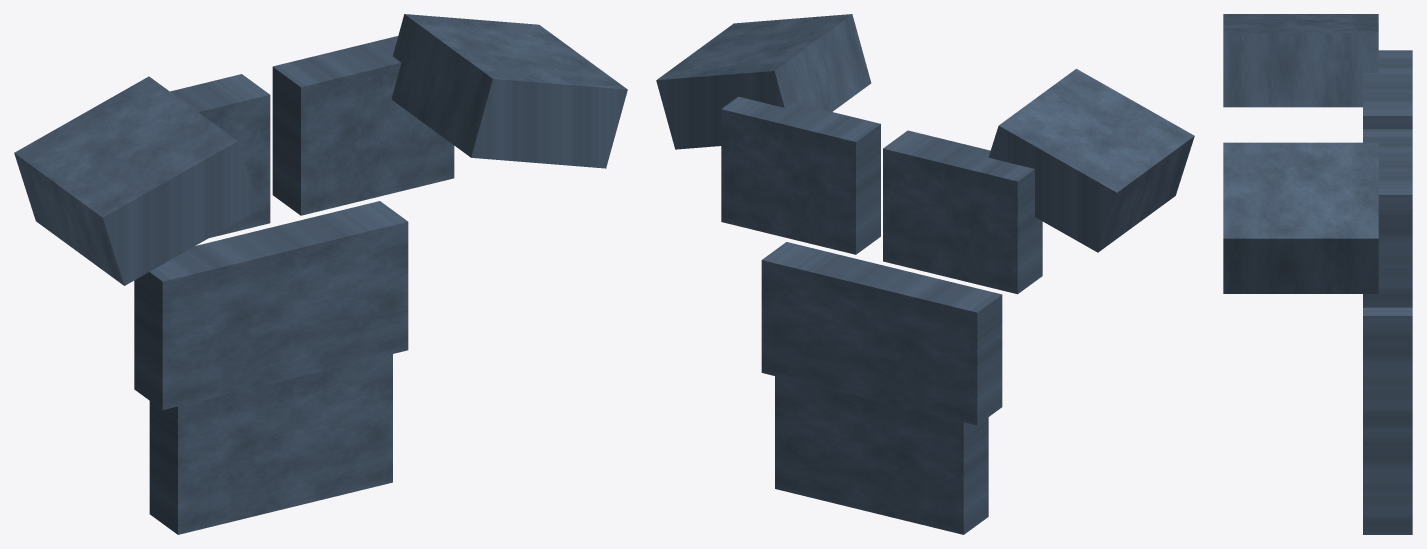
The model's file is rival_stone_shell.obj.
The picture shows the model from 3 angles, left to right: view 1: azimuth 30°, elevation 25°; view 2: azimuth 150°, elevation 25°; view 3: azimuth 270°, elevation 25°; orthographic projection. The views are drawn at different scales.
Parts seen in each view (by area): view 1: rival_stone_shell; view 2: rival_stone_shell; view 3: rival_stone_shell.
Boxes of the visible parts, x1,y1,x2,y2 form: rival_stone_shell: (14,14,627,534); rival_stone_shell: (656,14,1194,534); rival_stone_shell: (1223,14,1412,534).
Bounding box in the file's own units: 1.07 × 0.8891 × 0.3812.
